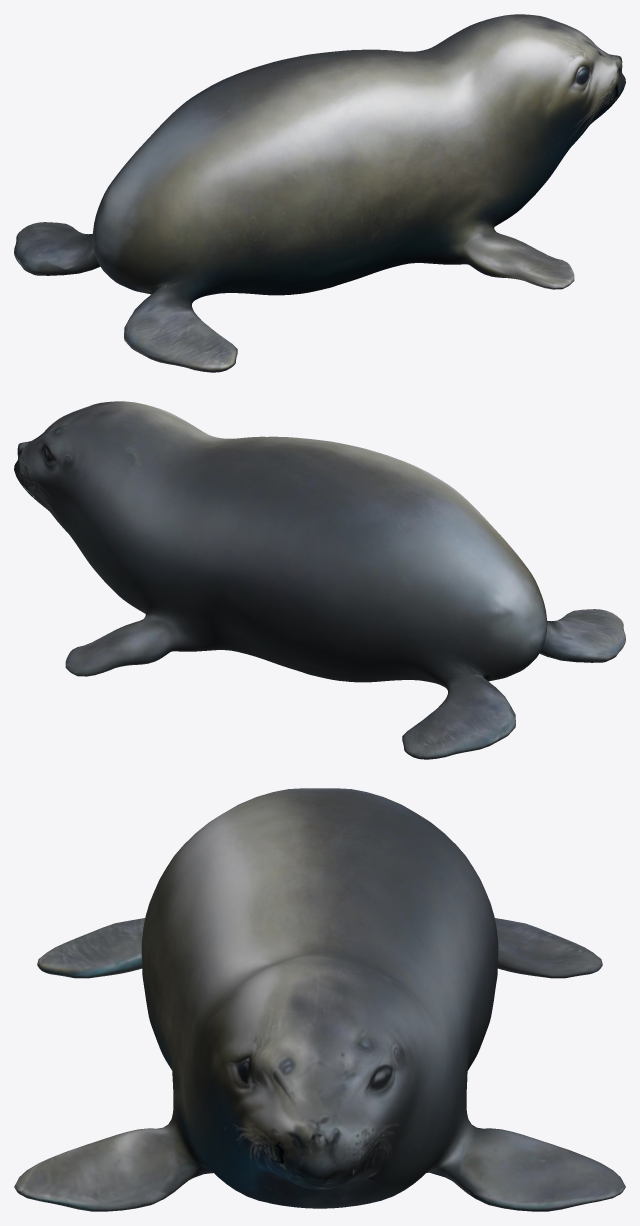
Rendered from nerpa.glb.
3 views of the same model, one above another, from view 1: azimuth 30°, elevation 25°; view 2: azimuth 150°, elevation 25°; view 3: azimuth 270°, elevation 25° (orthographic). The views are drawn at different scales.
Parts seen in each view (by area): view 1: Mesh0; view 2: Mesh0; view 3: Mesh0.
Boxes of the visible parts, x1,y1,x2,y2 form: Mesh0: (14,14,625,372); Mesh0: (14,401,625,759); Mesh0: (14,788,625,1211).
Bounding box in the file's own units: 1.98 × 0.6613 × 1.32.
1 material, 1 textured.
